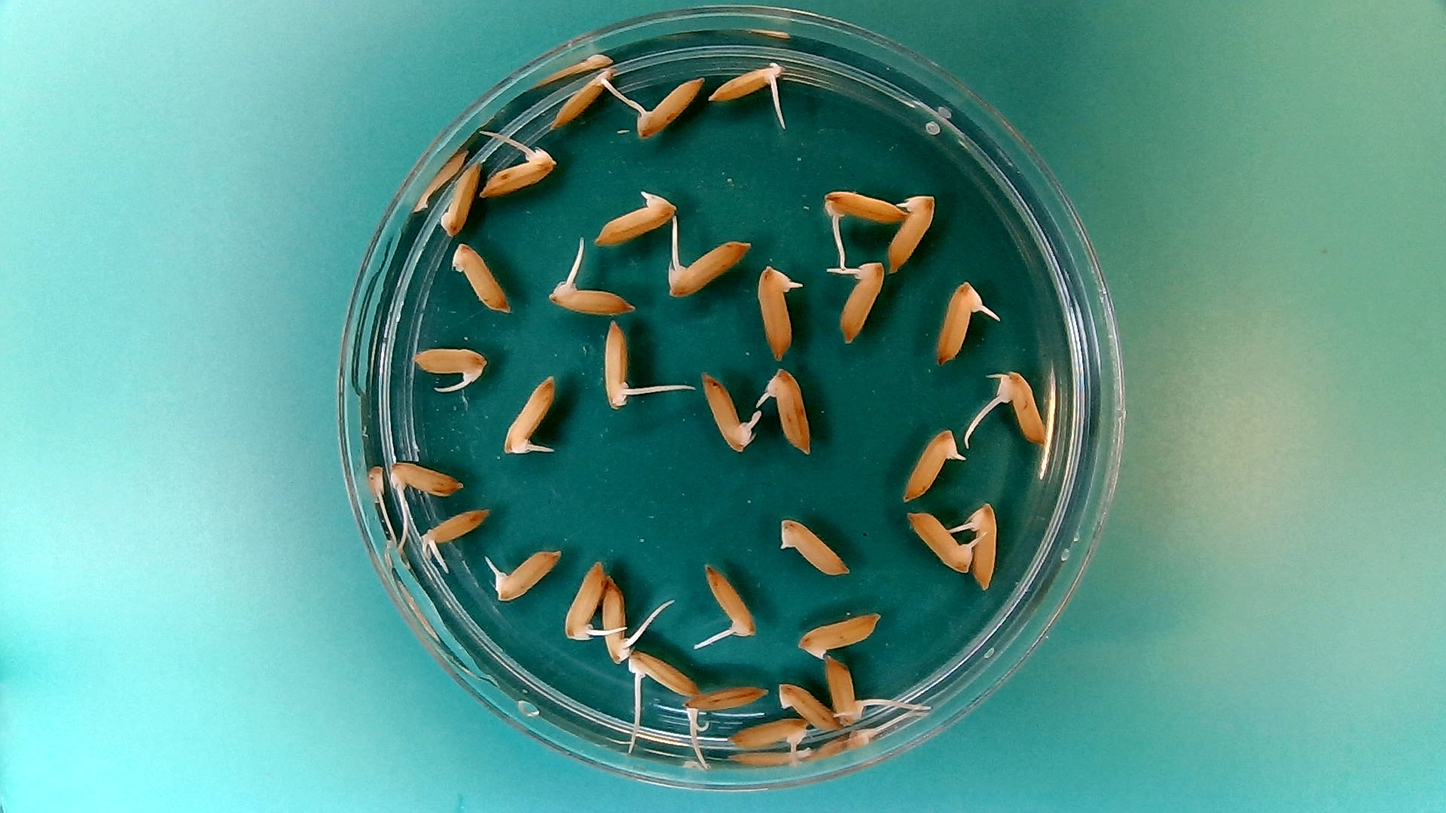no: (776, 513, 854, 579), (795, 608, 883, 661), (450, 241, 512, 315), (435, 155, 486, 236), (775, 680, 842, 733)
yes: (667, 239, 752, 301), (830, 262, 886, 354), (499, 372, 555, 458), (701, 558, 759, 641), (899, 427, 960, 504), (885, 188, 939, 274), (905, 512, 974, 576), (755, 266, 799, 364), (595, 190, 676, 243), (635, 78, 705, 139), (700, 373, 753, 451), (554, 62, 618, 126), (767, 370, 816, 451), (996, 371, 1049, 443), (477, 151, 554, 198), (561, 558, 606, 638), (938, 282, 980, 367), (601, 578, 642, 665), (627, 650, 701, 698), (493, 545, 560, 598), (600, 315, 635, 411), (726, 715, 811, 754), (684, 687, 773, 724), (824, 649, 868, 723), (423, 504, 490, 551), (711, 63, 782, 106), (412, 343, 487, 383), (550, 281, 638, 315), (969, 497, 999, 595), (830, 190, 908, 225), (389, 458, 460, 495)
